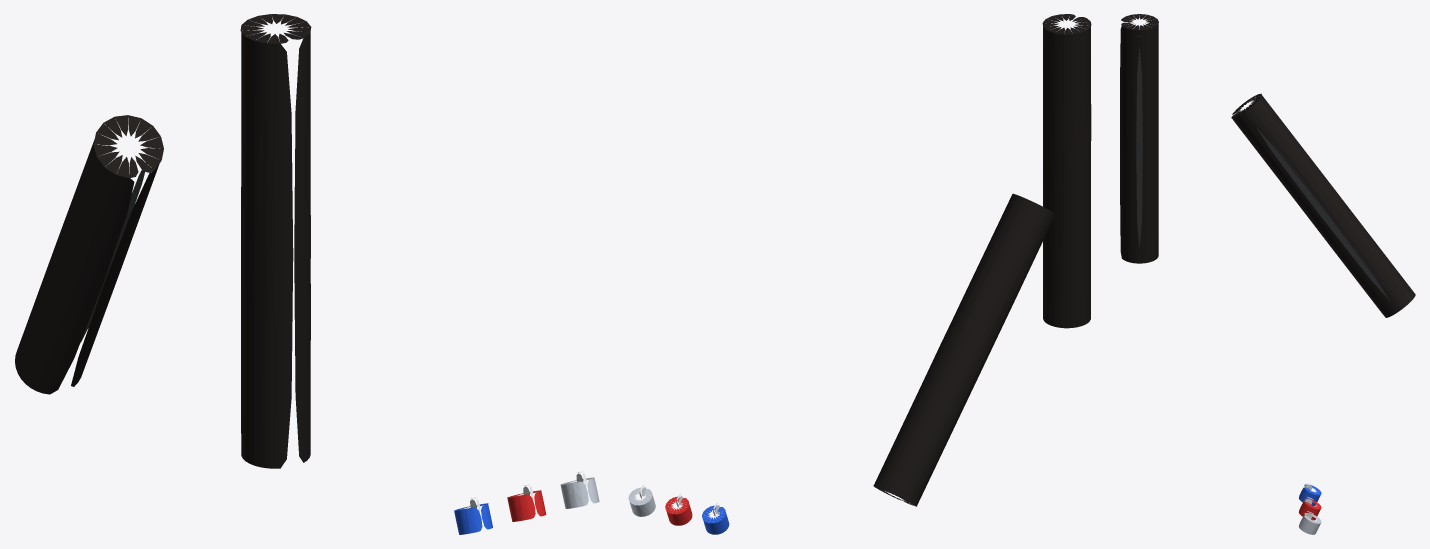
Rendered from rollcage_padding_dials.glb.
3 renders of one model, left to right at view 1: azimuth 30°, elevation 25°; view 2: azimuth 150°, elevation 25°; view 3: azimuth 270°, elevation 25°, orthographic. The views are drawn at different scales.
Visible parts, largest first — view 1: Roll_Cage_Padding_Console_Dials_Assembly; view 2: Roll_Cage_Padding_Console_Dials_Assembly; view 3: Roll_Cage_Padding_Console_Dials_Assembly.
Part boxes in pixels (x1,y1,x2,y2): Roll_Cage_Padding_Console_Dials_Assembly: [15, 14, 599, 534]; Roll_Cage_Padding_Console_Dials_Assembly: [628, 14, 1091, 534]; Roll_Cage_Padding_Console_Dials_Assembly: [1120, 14, 1415, 534].
Size of the model in its own units: 0.574 by 0.6983 by 0.483.
